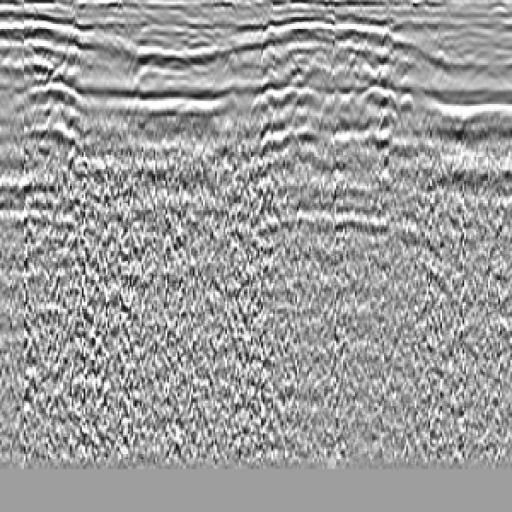non-metallic: (19, 74, 91, 293), (363, 78, 425, 278), (249, 71, 294, 272)
